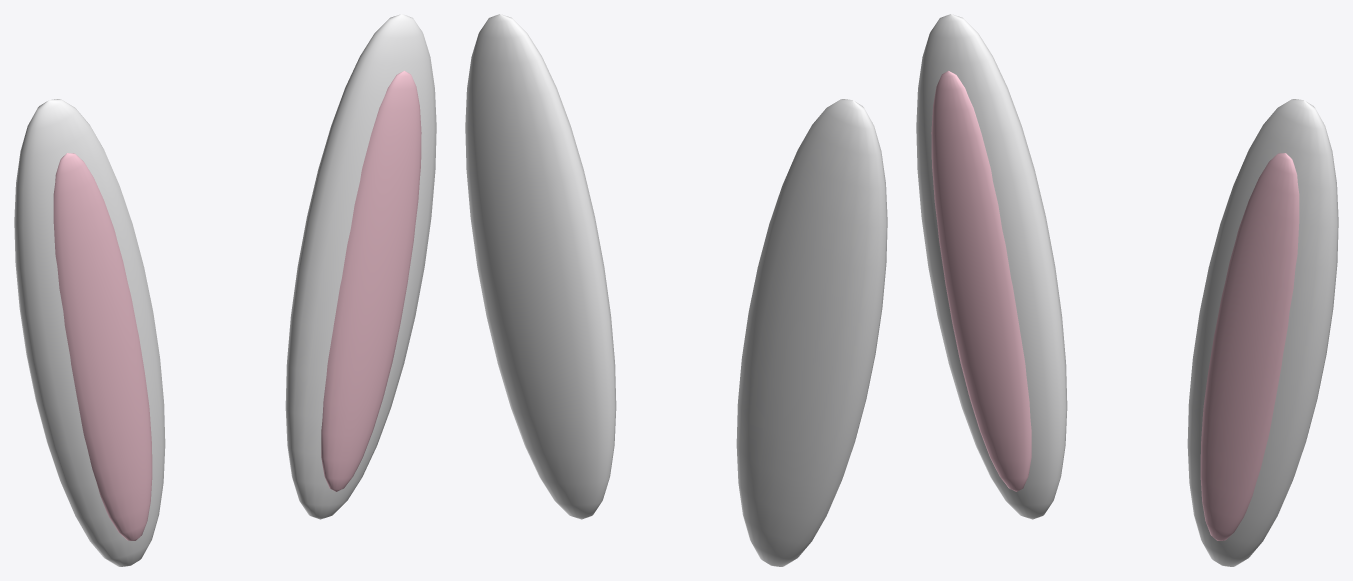
The model's file is bunny-ears.glb.
3 views of the same model, side by side, from view 1: azimuth 30°, elevation 25°; view 2: azimuth 150°, elevation 25°; view 3: azimuth 330°, elevation 25° (orthographic).
Bounding box in the file's own units: 12.79 × 14.18 × 1.95.
